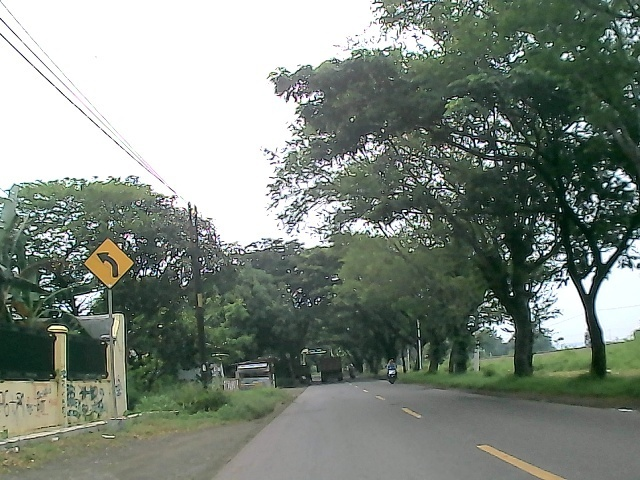Tikungan ke kiri: (81, 238, 139, 289)
